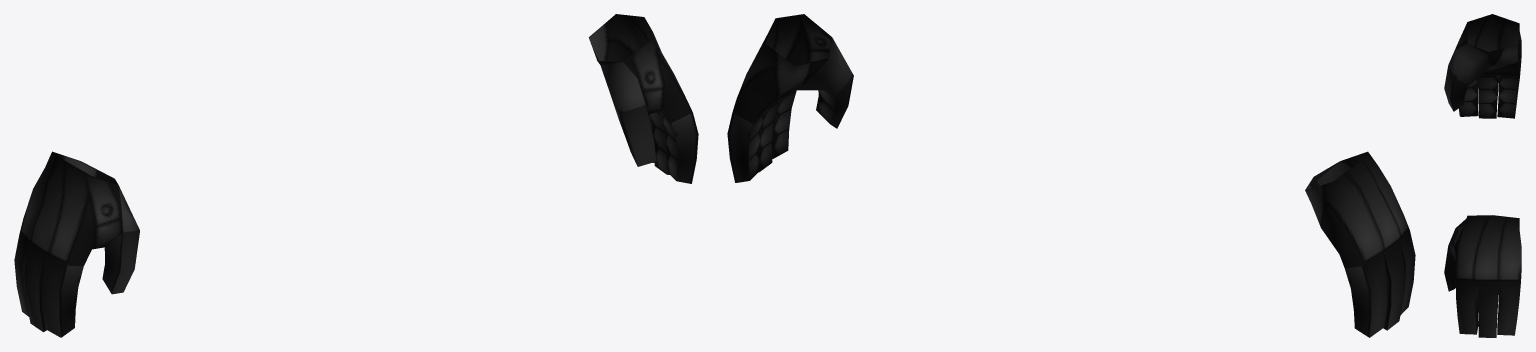
File: hum_cloth_f_487e1d85.glb
3 views of the same model, side by side, from view 1: azimuth 30°, elevation 25°; view 2: azimuth 150°, elevation 25°; view 3: azimuth 270°, elevation 25° (orthographic). The views are drawn at different scales.
Size of the model in its own units: 1.7 by 0.3987 by 0.2485.
Materials: 1 (1 with a texture image).
